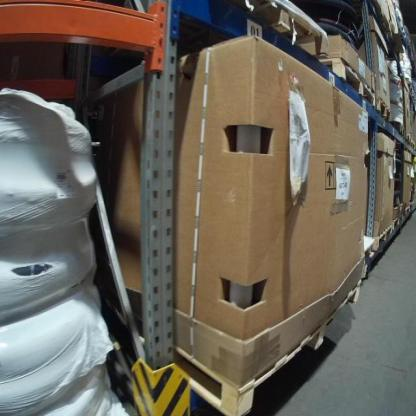pallet: (110, 277, 362, 416), (237, 2, 332, 71), (312, 54, 377, 111), (373, 97, 394, 124), (376, 222, 393, 252), (389, 118, 407, 140), (393, 209, 408, 232), (404, 132, 412, 146), (412, 140, 415, 151)
